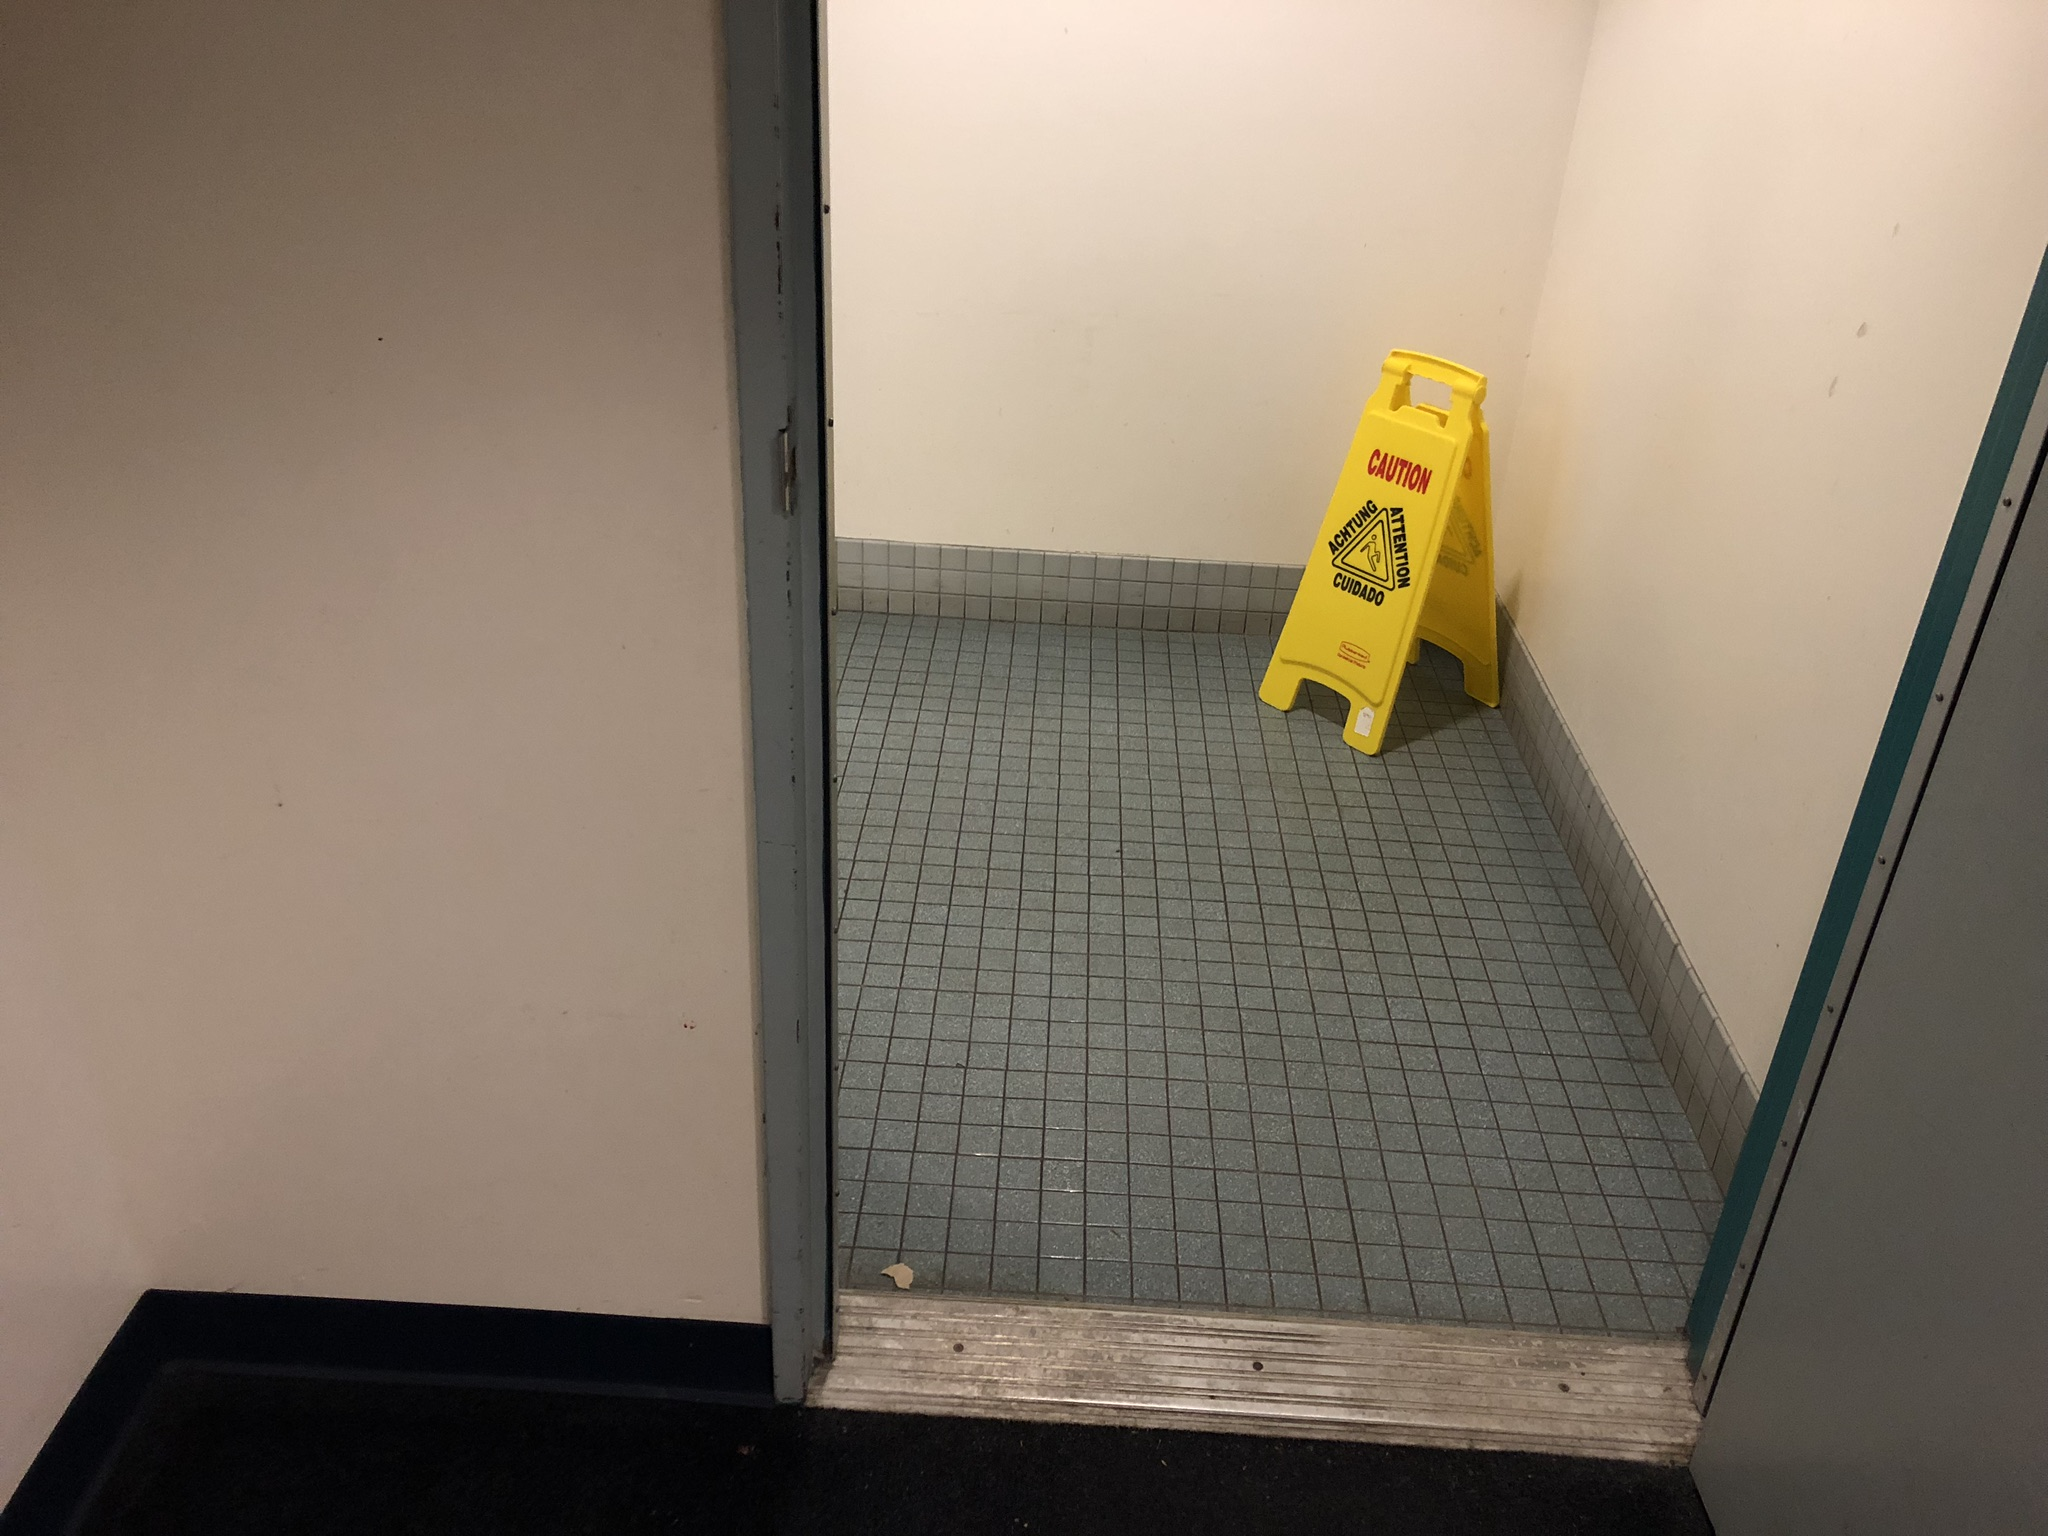Obstacle: (426, 536, 942, 1459), (1247, 265, 1630, 800)
